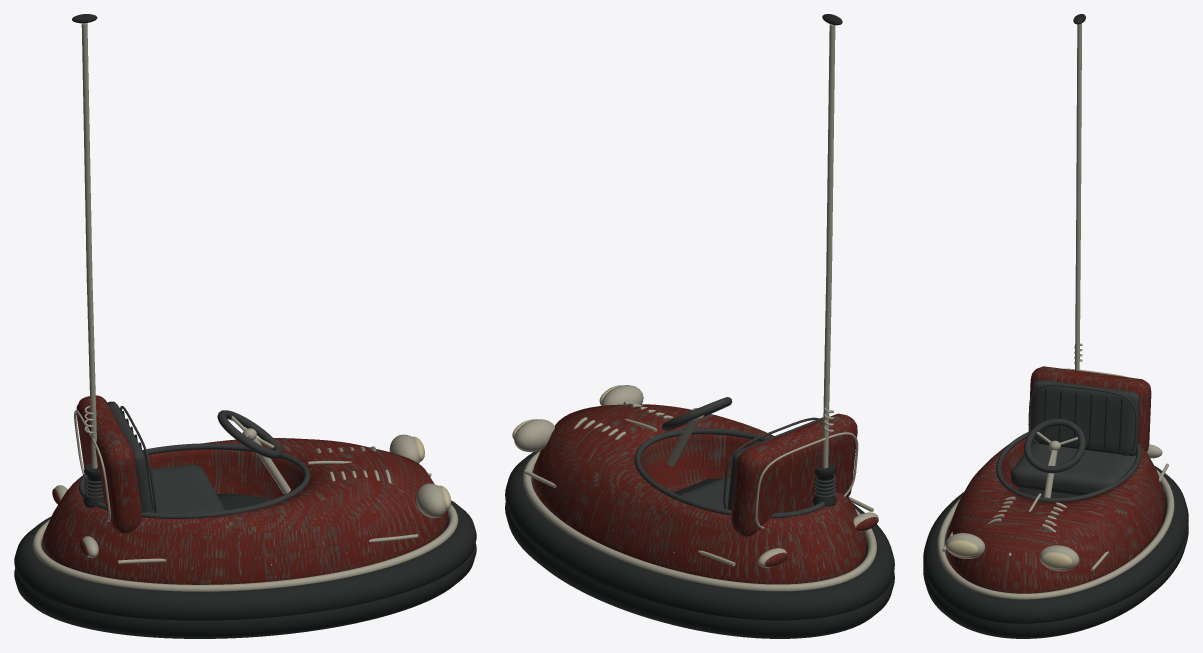
The model's file is SM_BumperCar_566477cf32.fbx.
3 renders of one model, left to right at view 1: azimuth 30°, elevation 25°; view 2: azimuth 150°, elevation 25°; view 3: azimuth 270°, elevation 25°, orthographic. The views are drawn at different scales.
Parts seen in each view (by area): view 1: SM_BumperCar_566477cf32; view 2: SM_BumperCar_566477cf32; view 3: SM_BumperCar_566477cf32.
Boxes of the visible parts, box(x1,y1,x2,y2) form: SM_BumperCar_566477cf32: box(14, 14, 476, 638); SM_BumperCar_566477cf32: box(505, 14, 894, 638); SM_BumperCar_566477cf32: box(923, 14, 1188, 638).
Size of what is drawn, in the model's own units: 262 by 184 by 373.
Materials: 6 (2 with a texture image).
